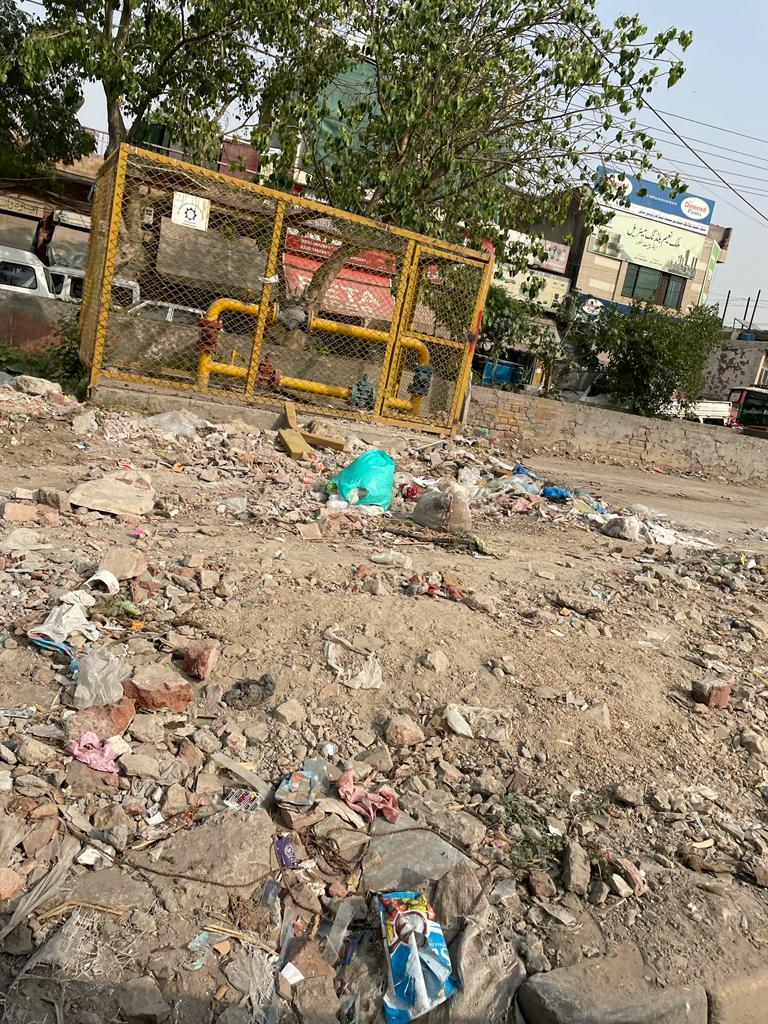garbage: (301, 416, 630, 533)
